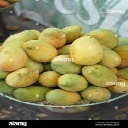mango: (70, 36, 104, 66)
